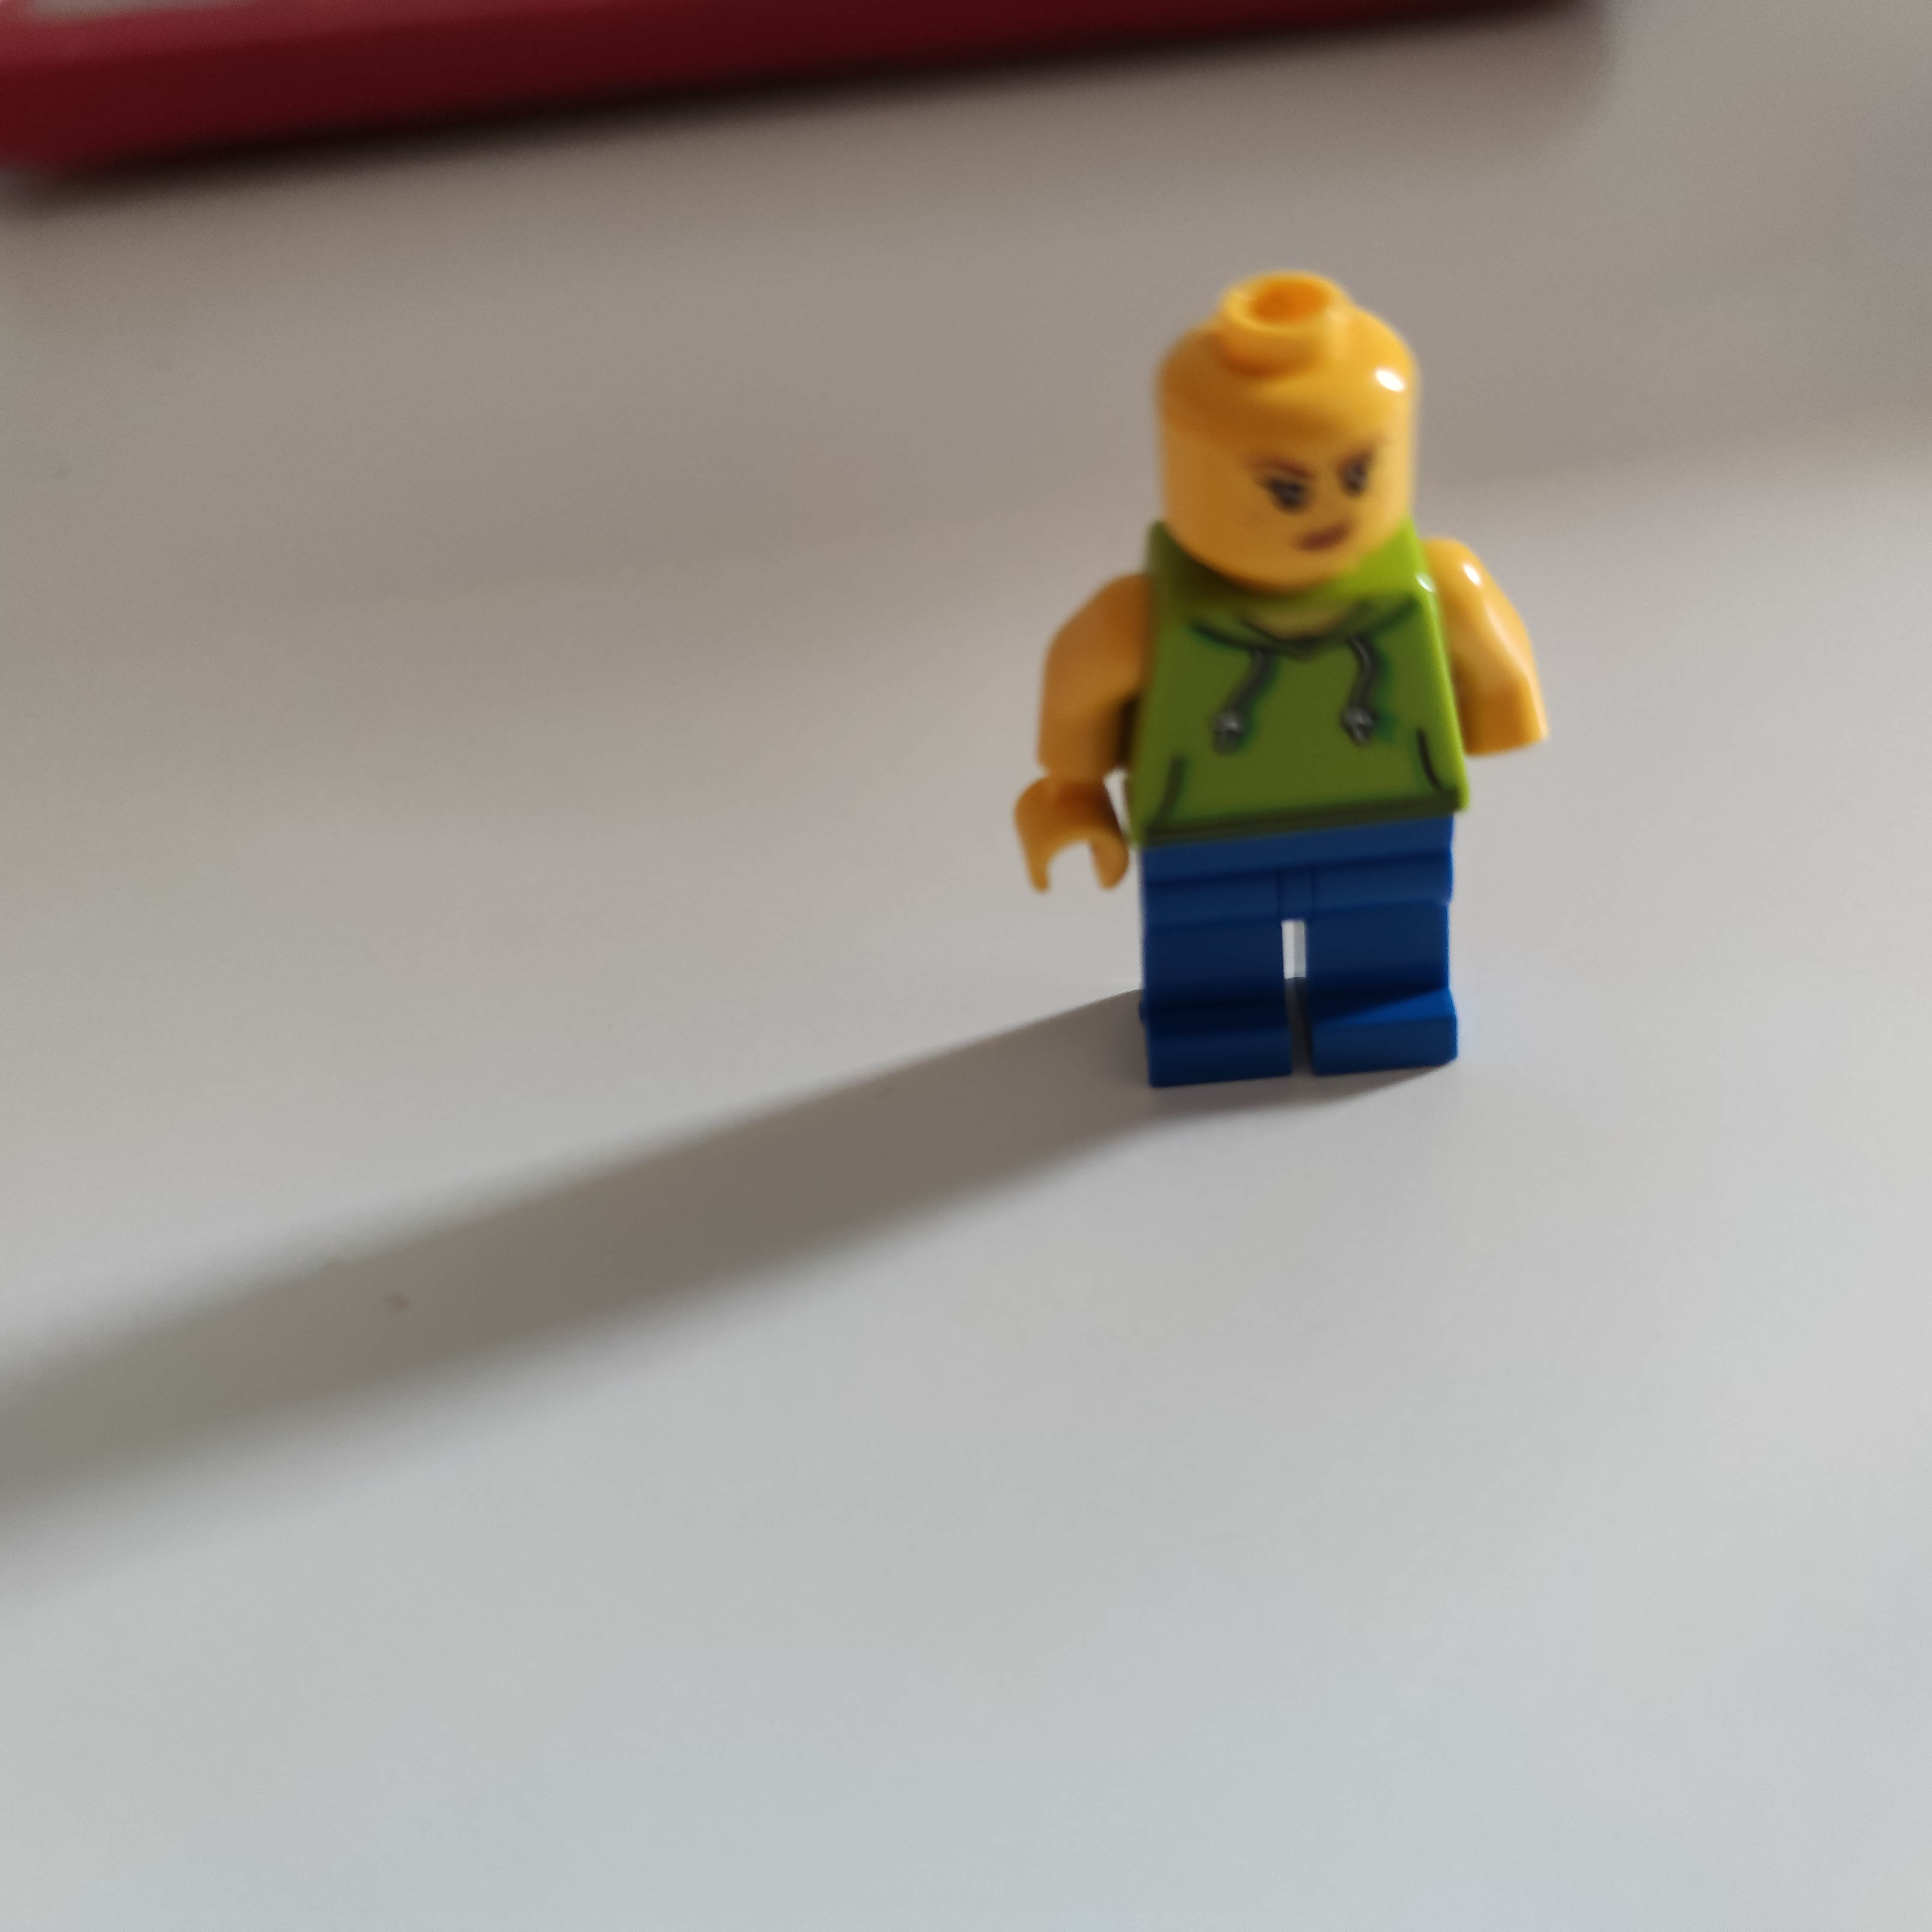lego: (1012, 258, 1559, 1104)
